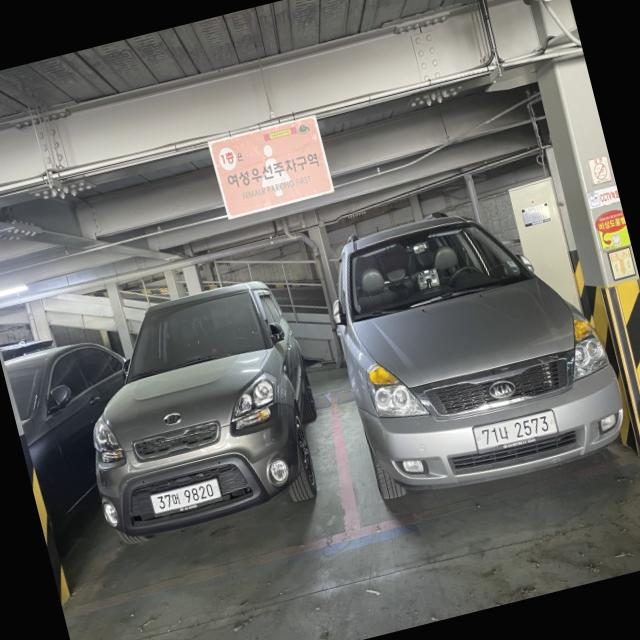car: (309, 196, 640, 544), (61, 283, 338, 582)
